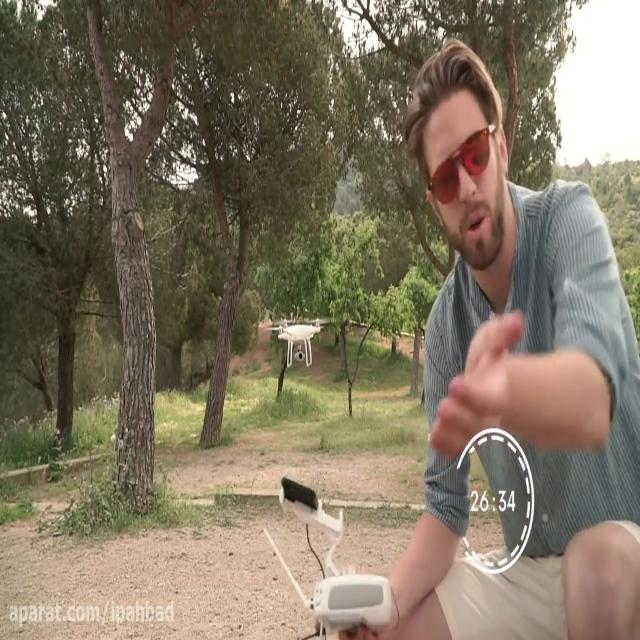drone: (266, 311, 331, 368)
